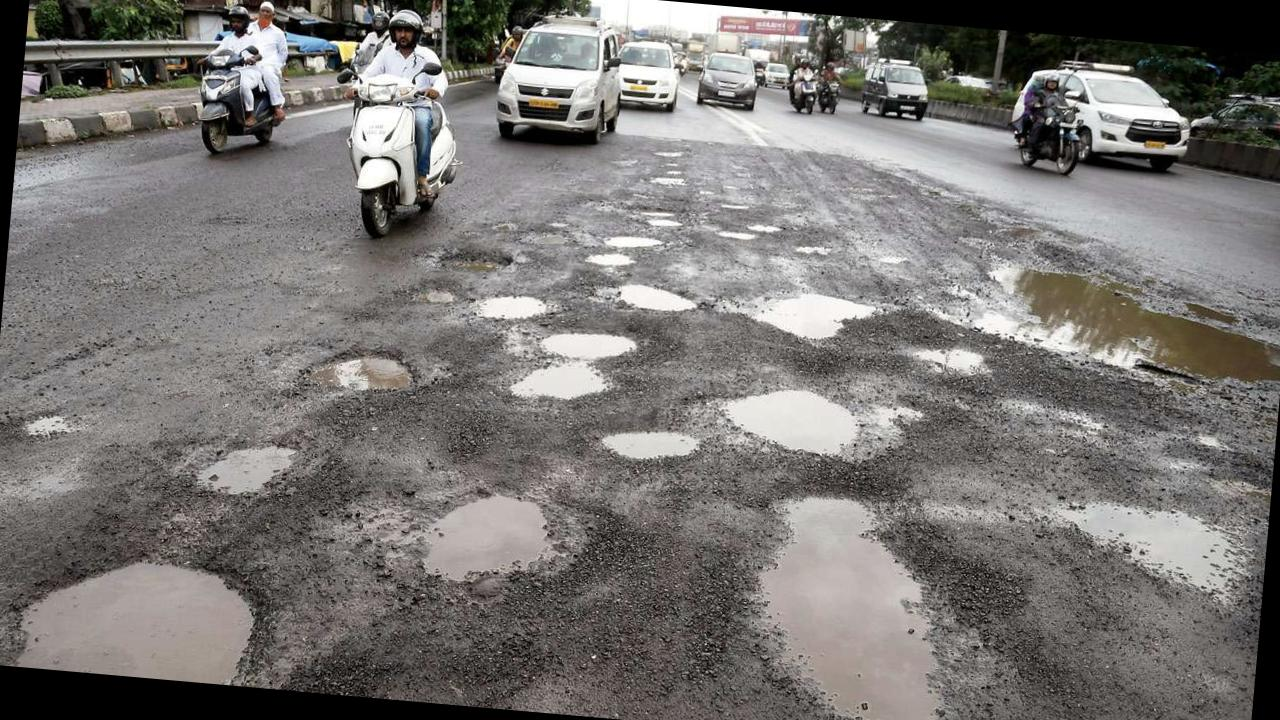pothole: (733, 466, 979, 720), (977, 253, 1280, 400), (0, 541, 284, 689), (1038, 478, 1244, 620), (401, 475, 568, 603), (706, 370, 878, 470), (706, 276, 892, 358), (152, 430, 305, 516), (291, 337, 426, 415), (493, 352, 630, 415), (585, 418, 703, 488), (508, 320, 650, 368), (582, 274, 702, 324), (416, 240, 528, 288), (908, 330, 992, 393), (462, 283, 554, 336), (11, 402, 90, 460), (482, 219, 578, 256), (388, 277, 462, 324), (577, 244, 646, 274), (591, 230, 666, 256), (628, 170, 698, 194), (790, 239, 841, 265), (613, 202, 675, 222), (634, 214, 688, 236), (876, 244, 904, 279), (714, 226, 758, 248), (710, 200, 754, 219), (744, 220, 783, 237), (646, 144, 686, 160), (656, 158, 689, 177)
